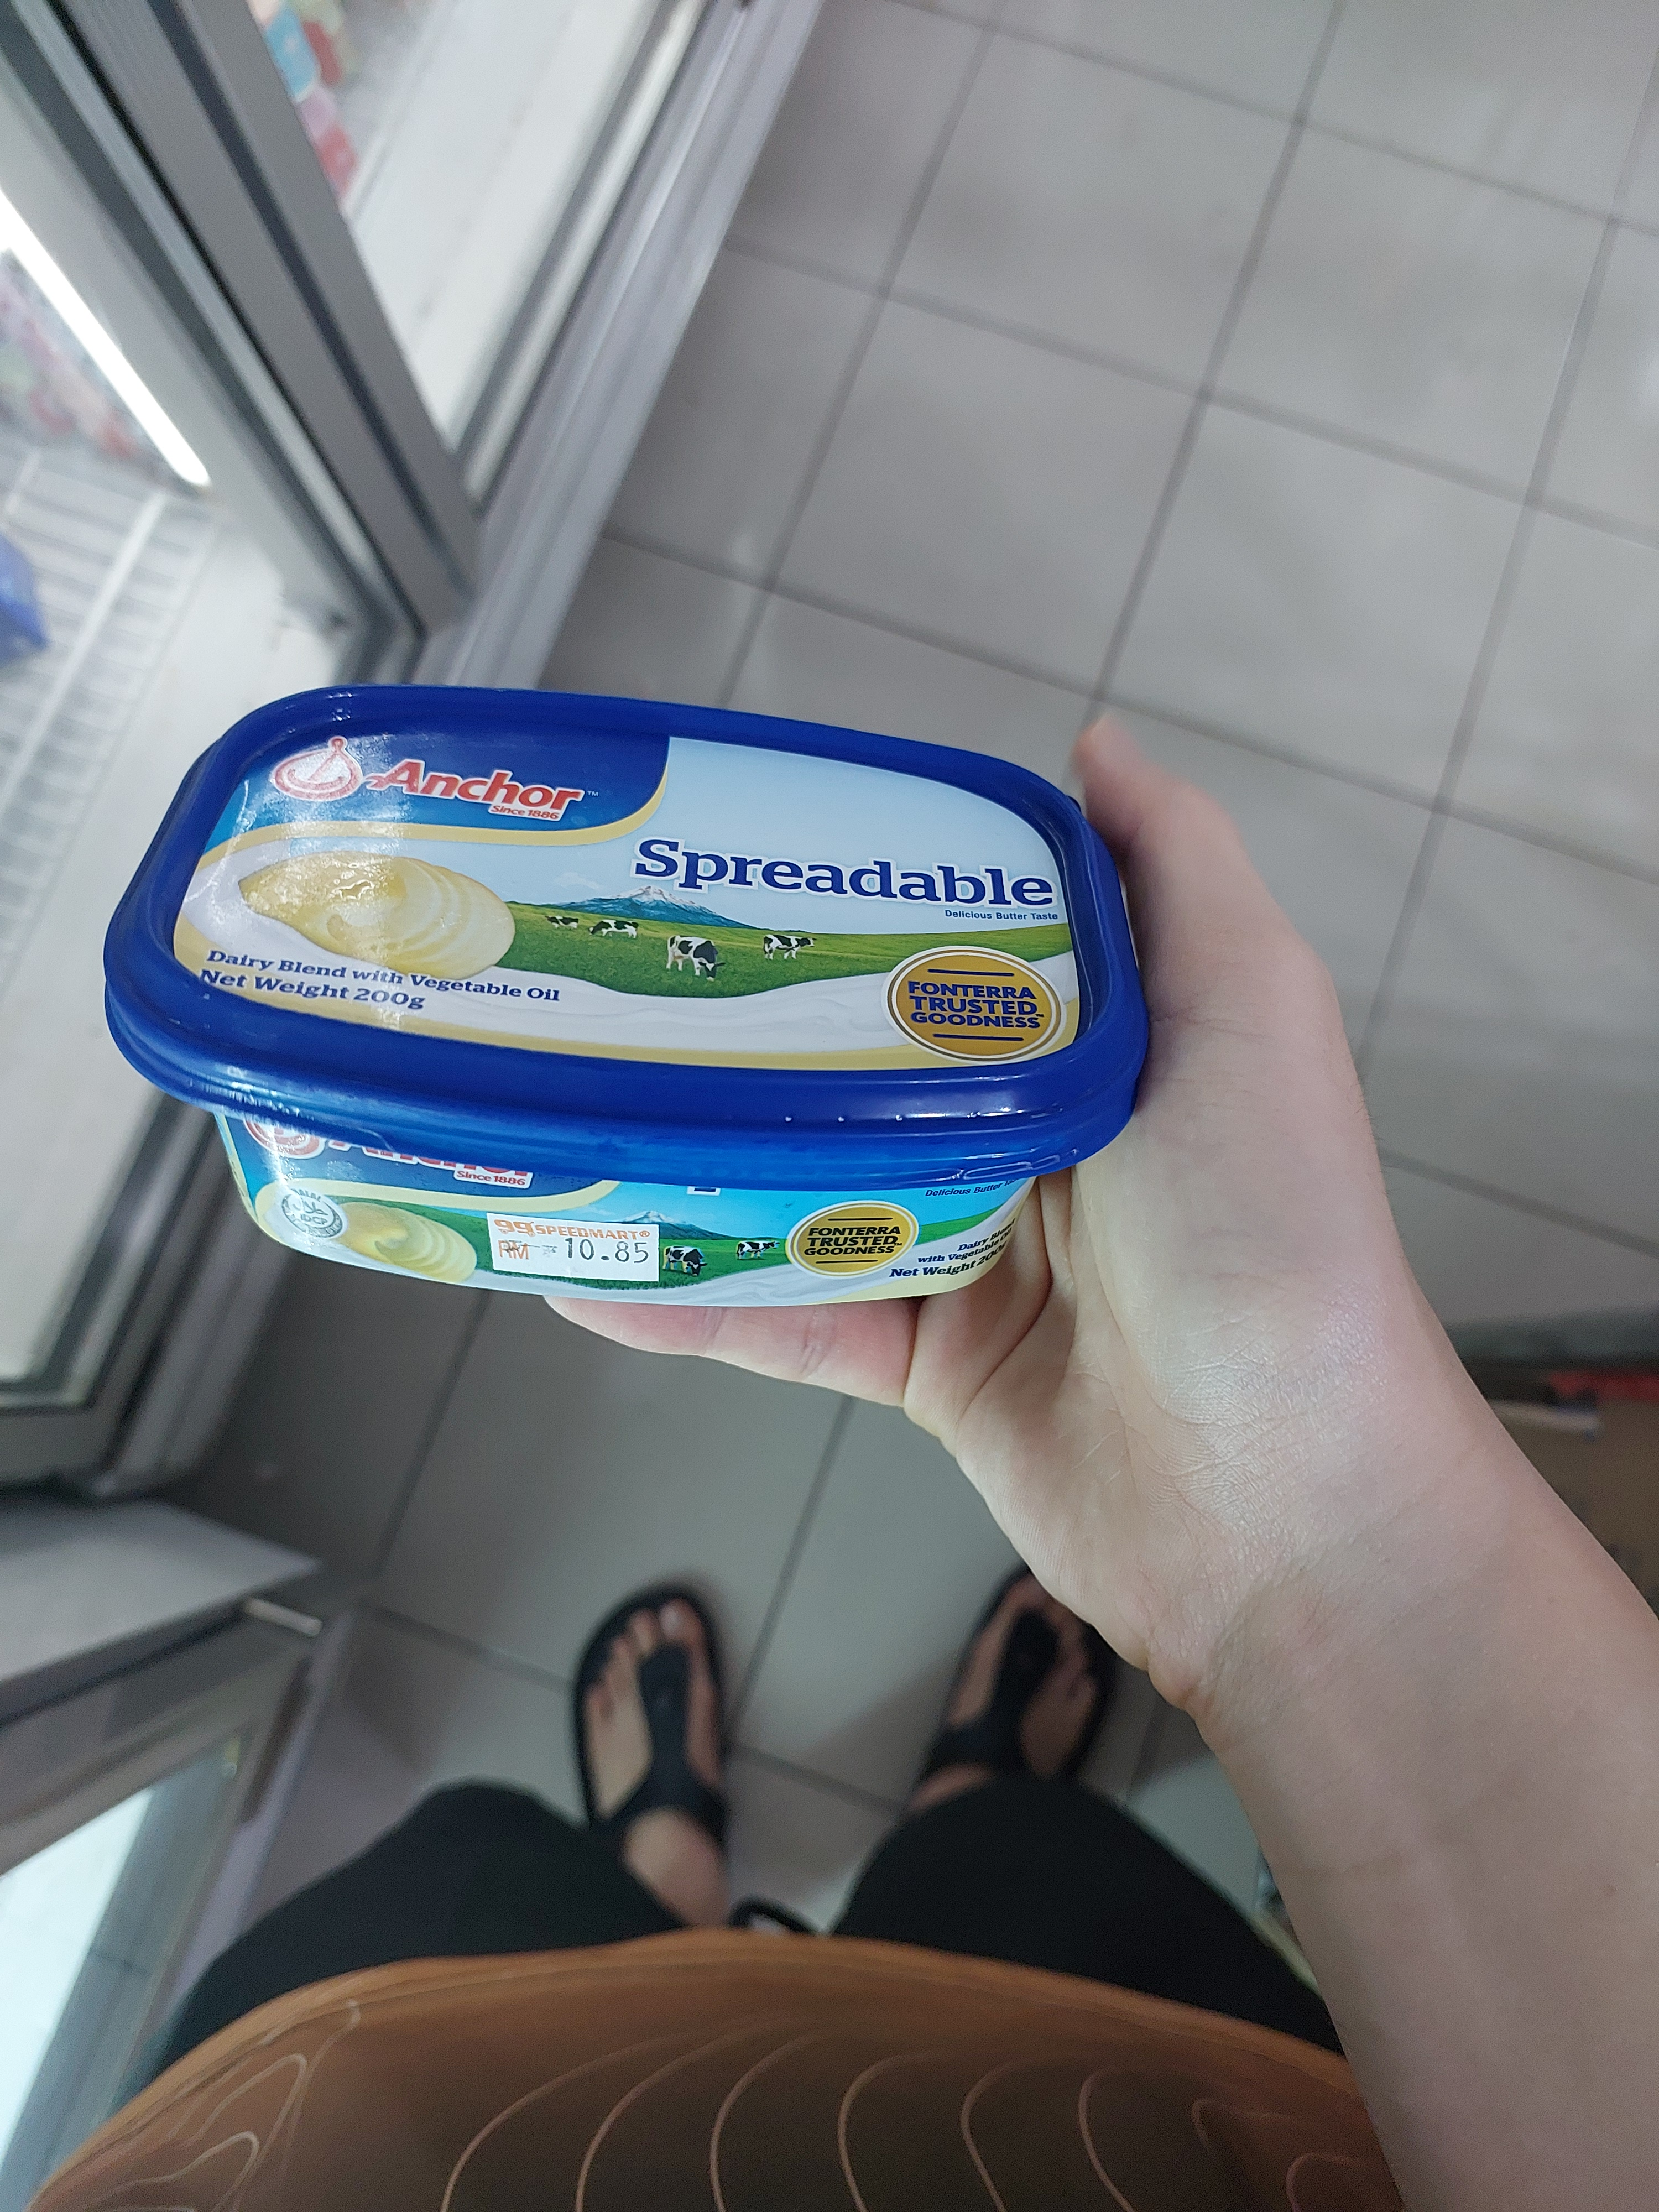butter: (98, 678, 1154, 1315)
